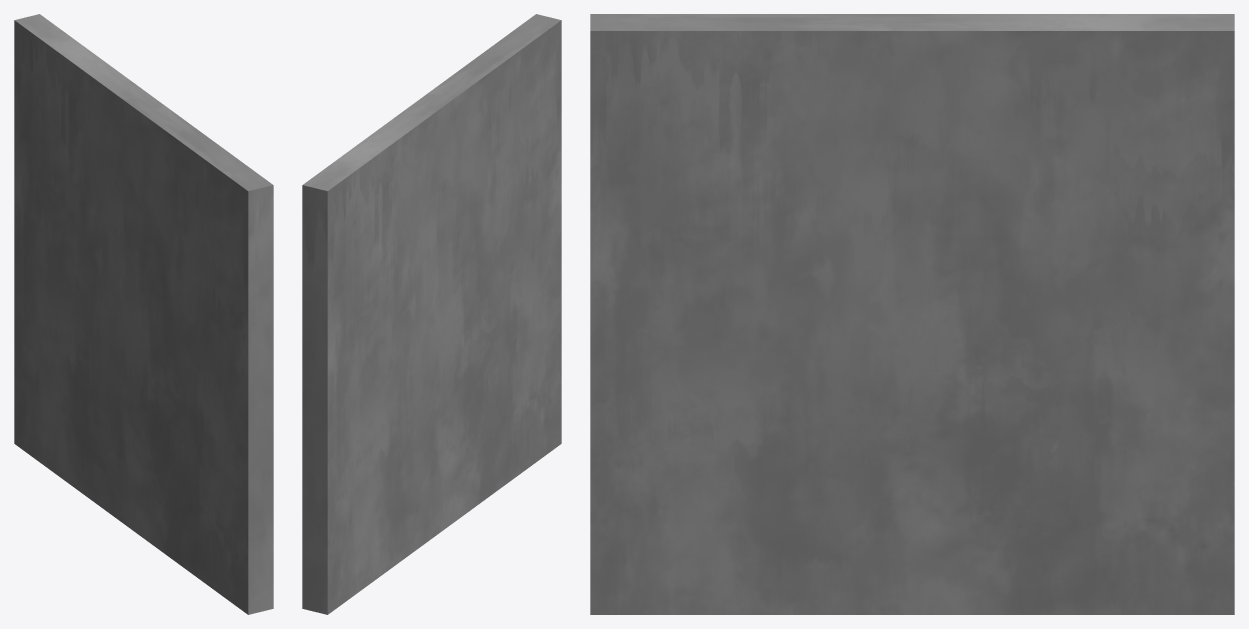
Rendered from Base_Wall_A.fbx.
The picture shows the model from 3 angles, left to right: view 1: azimuth 30°, elevation 25°; view 2: azimuth 150°, elevation 25°; view 3: azimuth 270°, elevation 25°; orthographic projection. The views are drawn at different scales.
Parts seen in each view (by area): view 1: Cube.086; view 2: Cube.086; view 3: Cube.086.
Boxes of the visible parts, x1,y1,x2,y2 form: Cube.086: (14, 14, 273, 614); Cube.086: (302, 14, 561, 614); Cube.086: (590, 14, 1234, 614).
Bounding box in the file's own units: 25 × 400 × 400.
